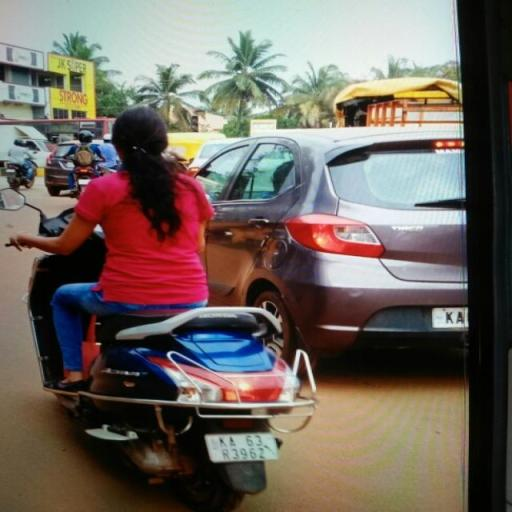bike: (9, 102, 324, 490)
numberplate: (204, 426, 284, 469)
withouthelmet: (113, 109, 170, 159)
